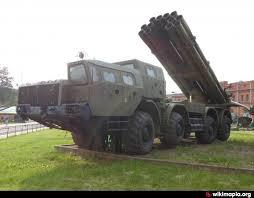MIL_SAM_TEL: (18, 11, 236, 152)
